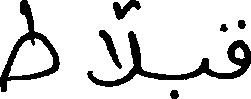X: (0, 0, 59, 96), (89, 0, 139, 91), (228, 15, 250, 83), (200, 53, 209, 80)
